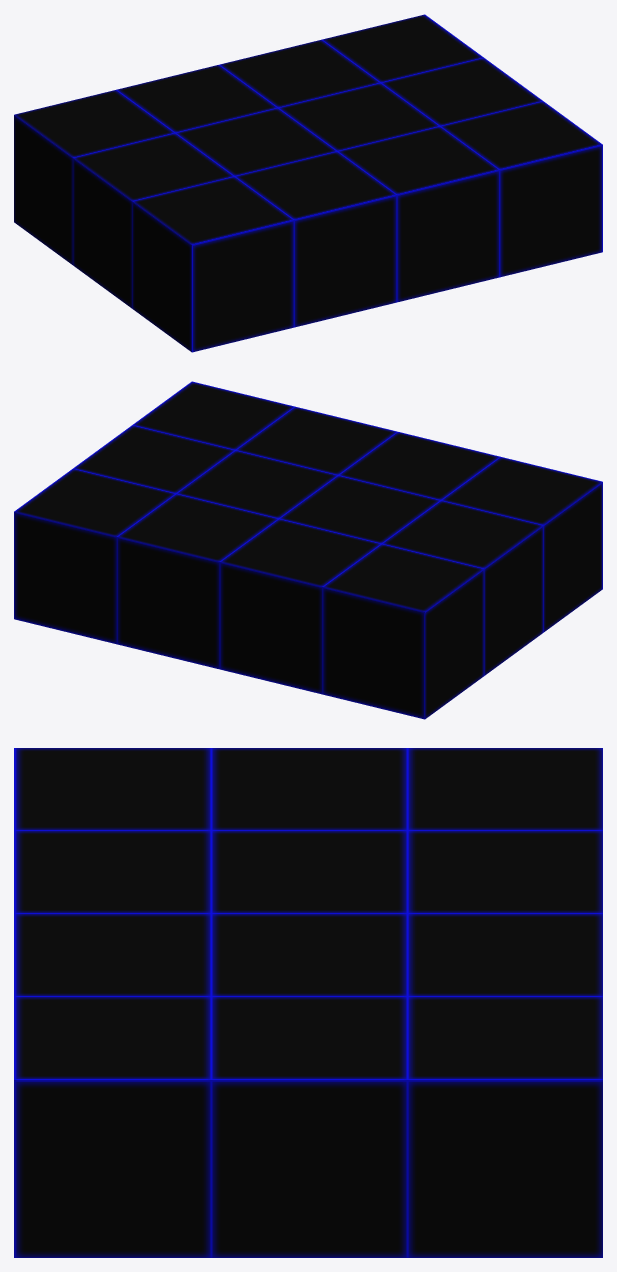
3 views of the same model, one above another, from view 1: azimuth 30°, elevation 25°; view 2: azimuth 150°, elevation 25°; view 3: azimuth 270°, elevation 25° (orthographic). The views are drawn at different scales.
Parts seen in each view (by area): view 1: Box001; view 2: Box001; view 3: Box001.
Boxes of the visible parts, box(x1,y1,x2,y2) form: Box001: box(14, 14, 602, 352); Box001: box(14, 381, 602, 719); Box001: box(14, 748, 602, 1257).
Size of the model in its own units: 4 by 1 by 3.
1 material, 1 textured.
